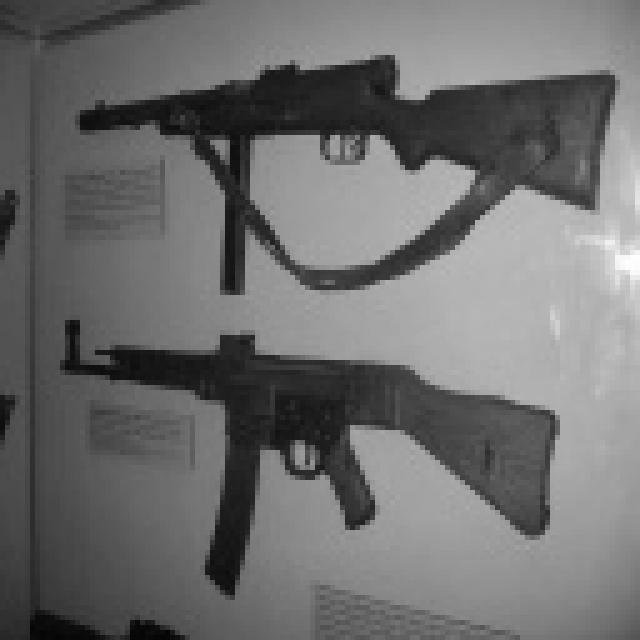Rifle: (13, 276, 573, 615), (35, 41, 625, 316)
